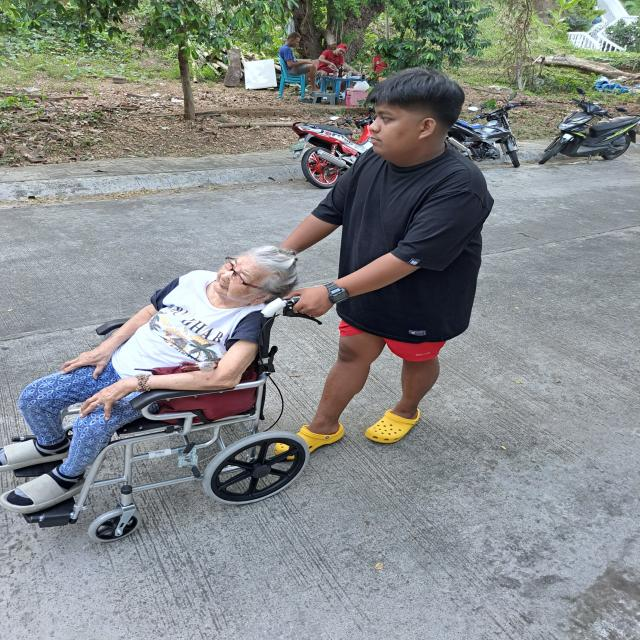wheelchairs: (0, 283, 321, 543)
